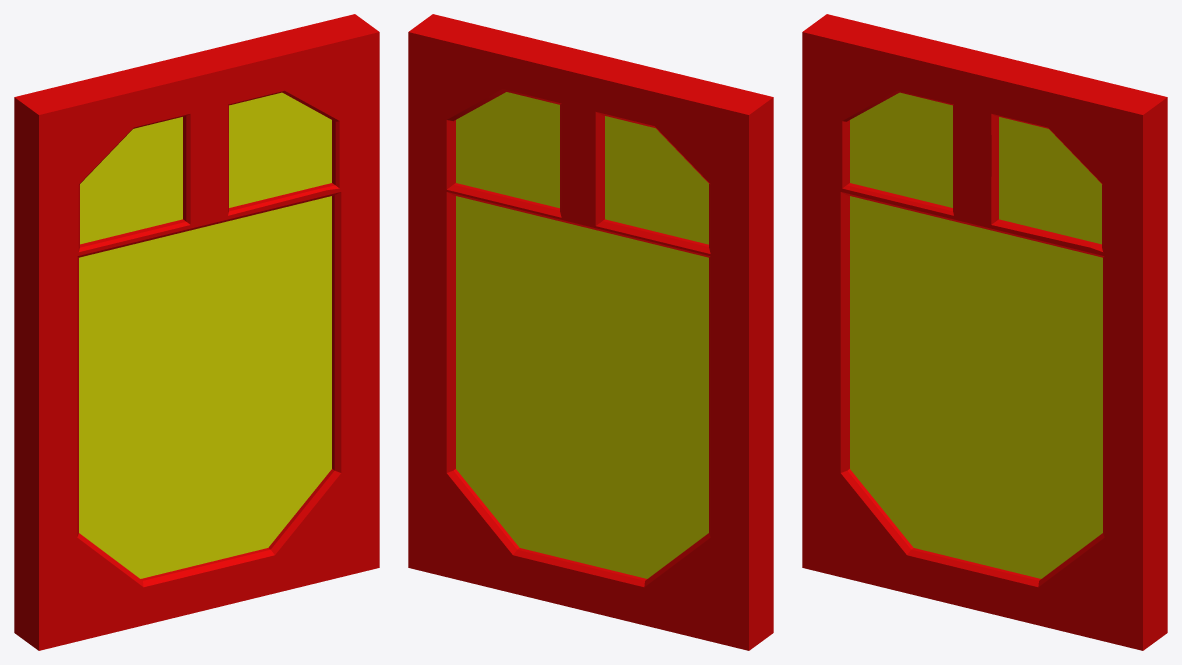
Rendered from Door_SM.fbx.
3 views of the same model, side by side, from view 1: azimuth 30°, elevation 25°; view 2: azimuth 150°, elevation 25°; view 3: azimuth 330°, elevation 25° (orthographic).
Visible parts, largest first — view 1: pCube13; view 2: pCube13; view 3: pCube13.
Boxes of the visible parts, <box> form: pCube13: <box>14,14,379,650</box>; pCube13: <box>408,14,773,650</box>; pCube13: <box>802,14,1167,650</box>.
Size of the model in its own units: 8 by 12.02 by 1.
